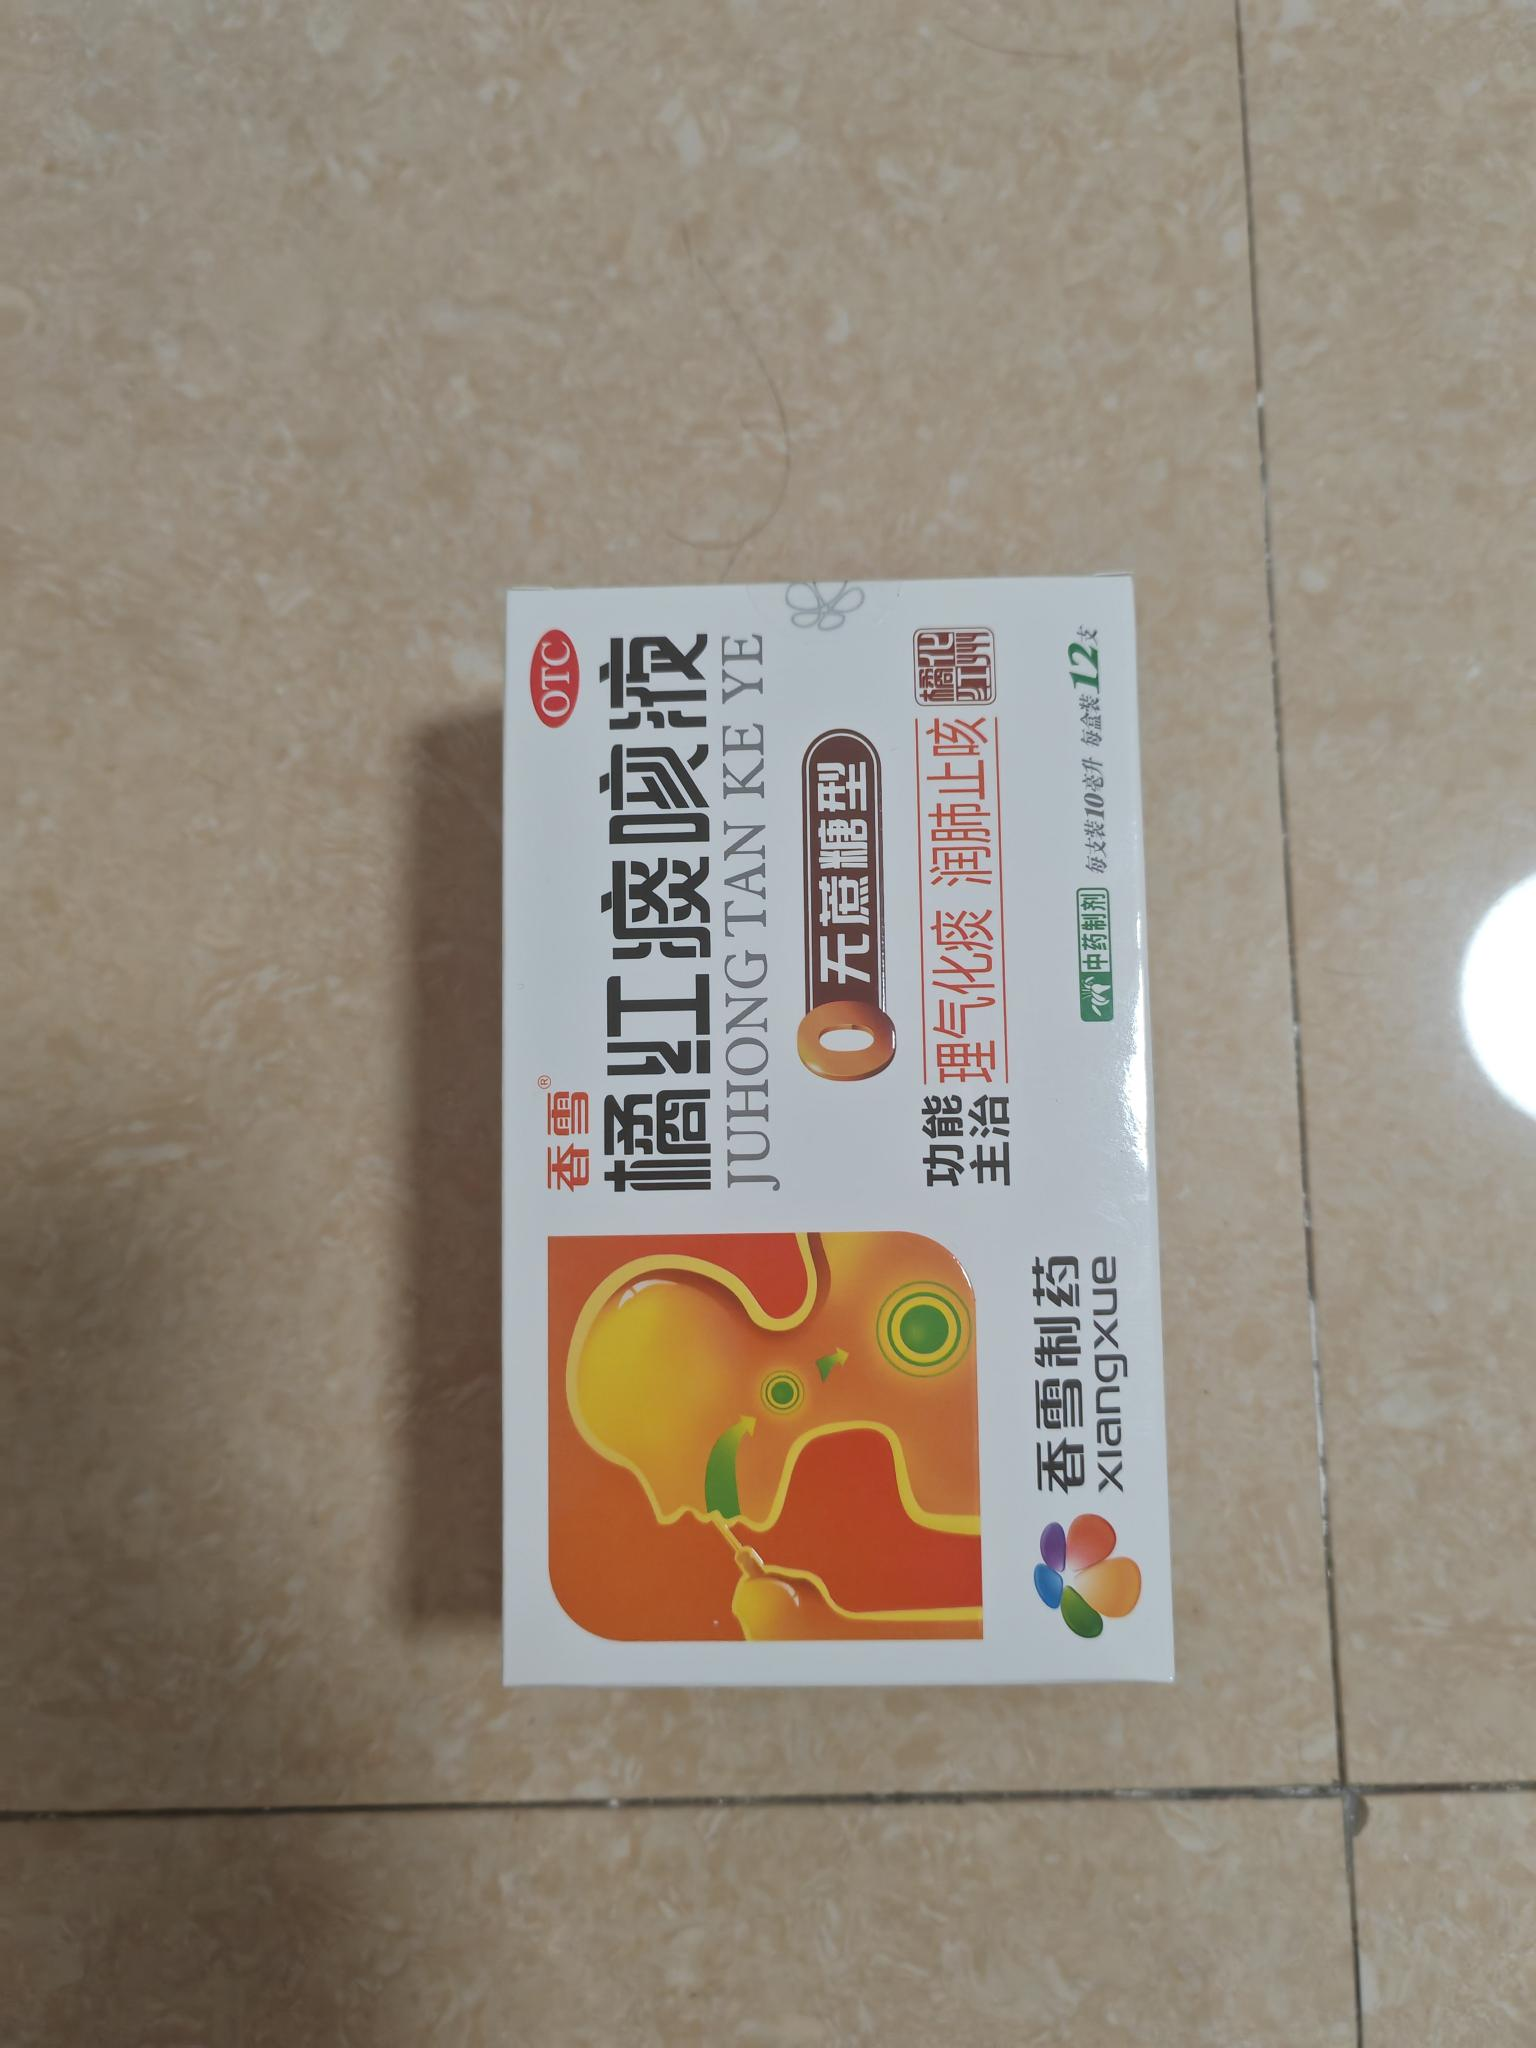Medicine1: (465, 558, 1207, 1713)
